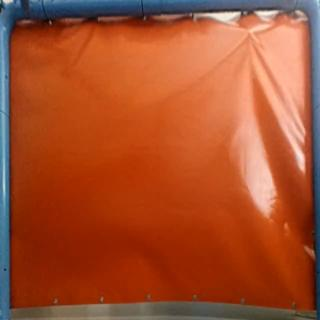Hit-hRxx: (243, 24, 261, 41)
